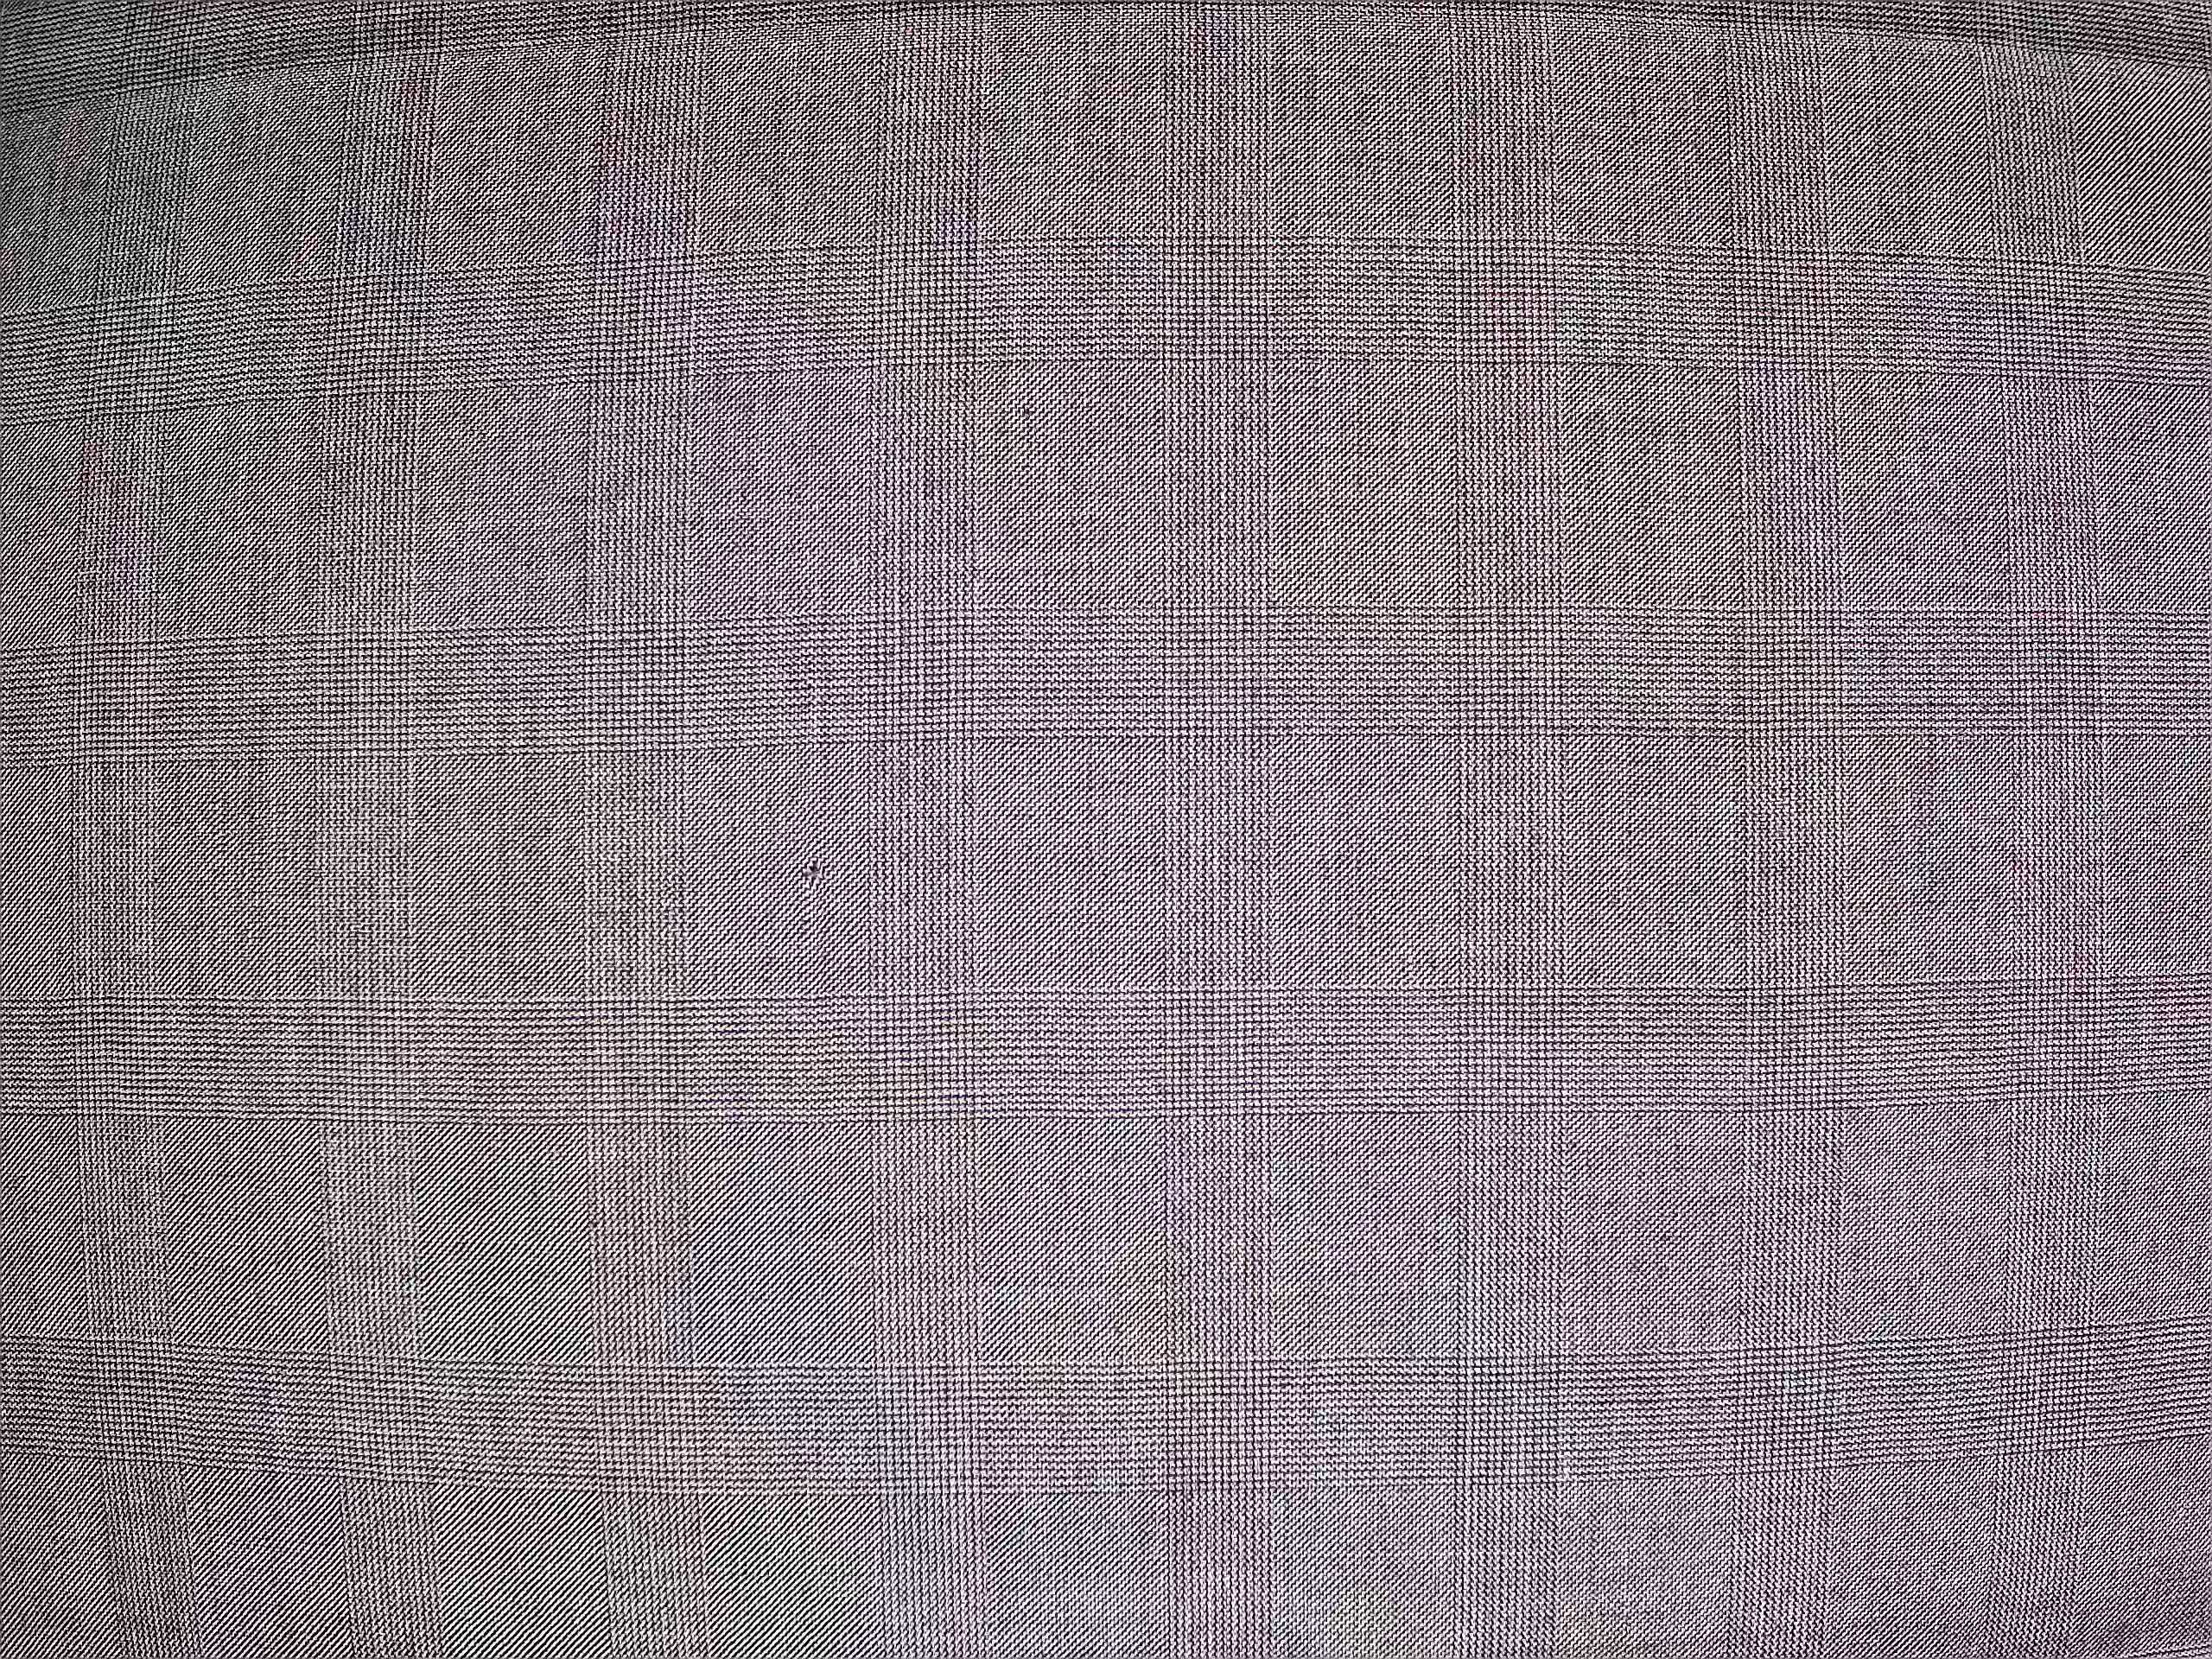rubbing-hole: (792, 847, 831, 894)
